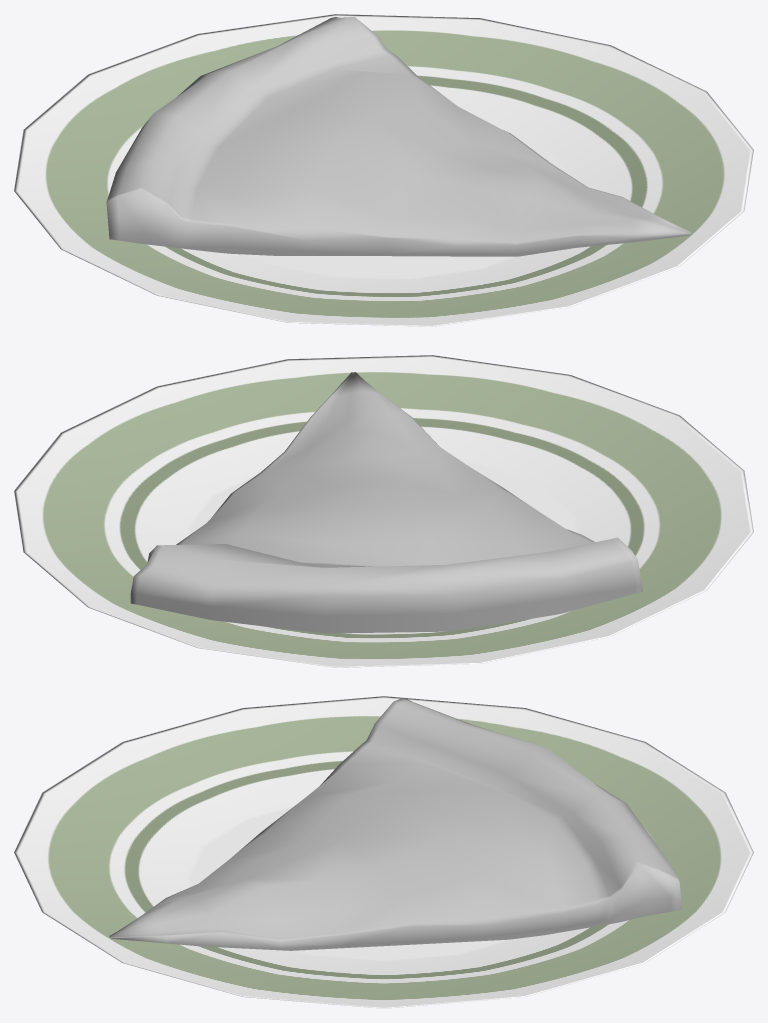
3 views of the same model, one above another, from view 1: azimuth 30°, elevation 25°; view 2: azimuth 150°, elevation 25°; view 3: azimuth 270°, elevation 25° (orthographic).
Parts seen in each view (by area): view 1: Plato, Plane; view 2: Plato, Plane; view 3: Plato, Plane.
Part boxes in pixels (x1,y1,x2,y2): Plato: (14, 14, 753, 326); Plane: (106, 16, 690, 256); Plato: (14, 355, 753, 667); Plane: (130, 372, 642, 633); Plato: (14, 696, 753, 1008); Plane: (109, 698, 681, 950).
Bounding box in the file's own units: 211 × 25.21 × 211.
